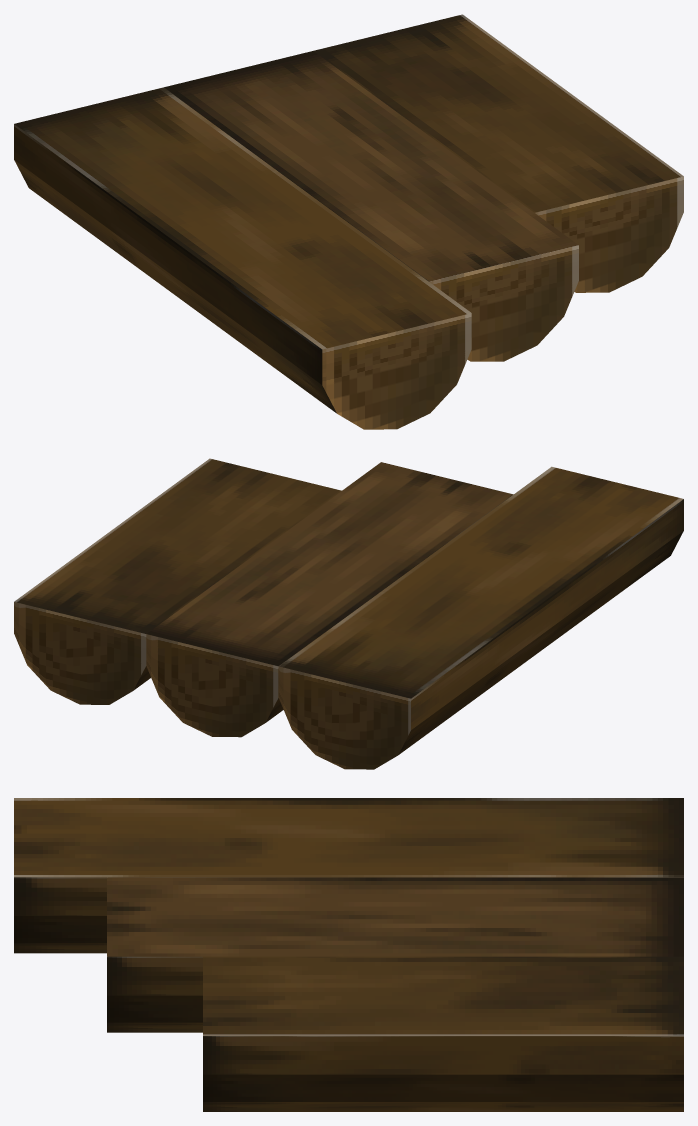
File: Madeira Base.fbx
3 views of the same model, one above another, from view 1: azimuth 30°, elevation 25°; view 2: azimuth 150°, elevation 25°; view 3: azimuth 270°, elevation 25° (orthographic). The views are drawn at different scales.
Parts seen in each view (by area): view 1: Cylinder, Cylinder.001, Cylinder.002; view 2: Cylinder, Cylinder.001, Cylinder.002; view 3: Cylinder.002, Cylinder, Cylinder.001.
Boxes of the visible parts, x1,y1,x2,y2 form: Cylinder: [14, 87, 471, 429]; Cylinder.001: [164, 51, 578, 361]; Cylinder.002: [313, 14, 683, 292]; Cylinder: [278, 466, 683, 769]; Cylinder.001: [146, 462, 513, 737]; Cylinder.002: [14, 458, 341, 704]; Cylinder.002: [203, 956, 683, 1111]; Cylinder: [14, 798, 683, 953]; Cylinder.001: [107, 877, 683, 1032].
Size of the model in its own units: 585 by 122 by 697.
